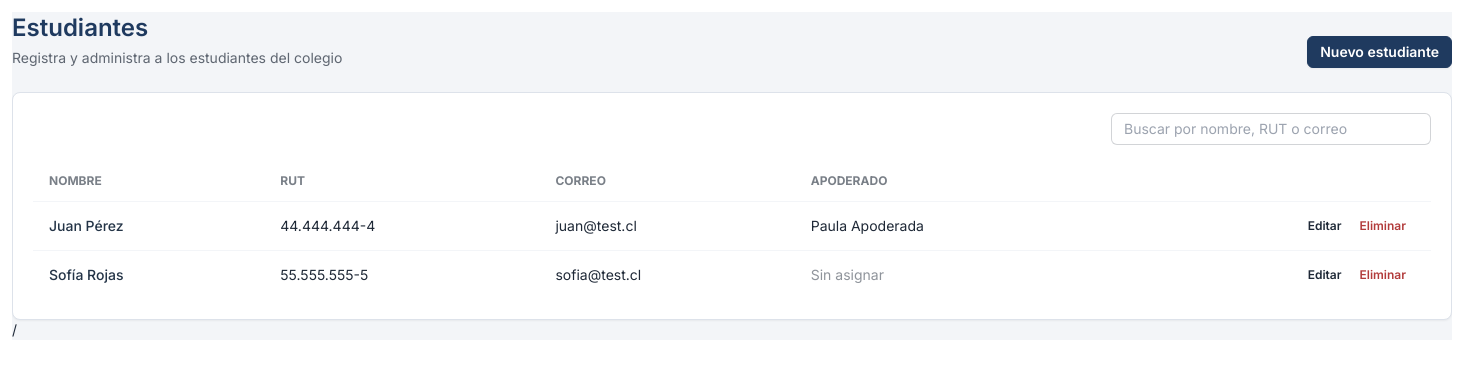
Users › filtra por nombre, RUT o correo
Expected: the text "Juan Pérez" is shown, [33, 202, 264, 250]
Type "sofia" into the field with placeholder "Buscar por nombre, RUT o correo" at {"x": 1271, "y": 129}, box [1111, 113, 1431, 145]
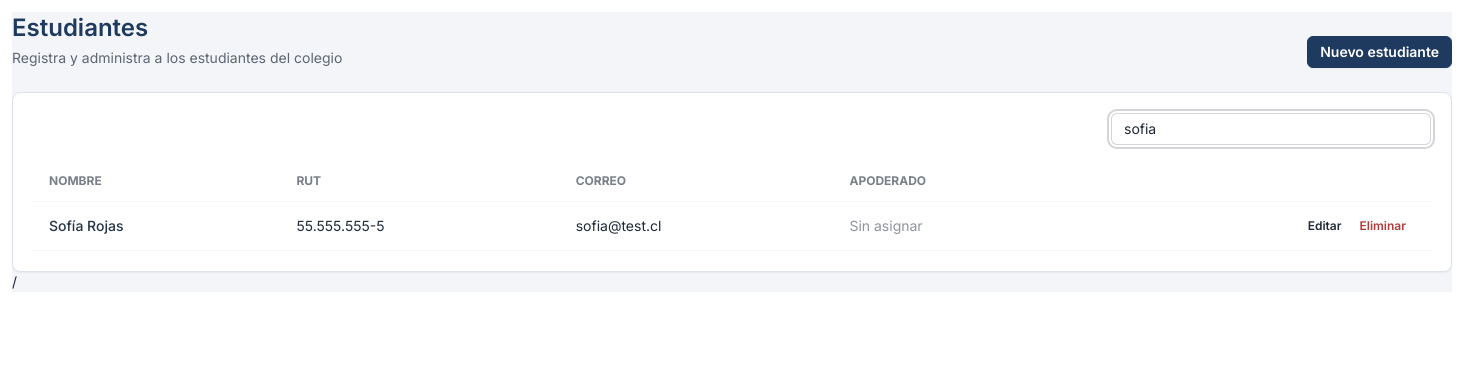
Expected: the text "Sofía Rojas" is shown, [33, 202, 280, 250]
Result: the text "Juan Pérez" is gone
Replace the text in the field with placeholder "Buscar por nombre, RUT o correo" with "zzz" at {"x": 1271, "y": 129}, box [1111, 113, 1431, 145]
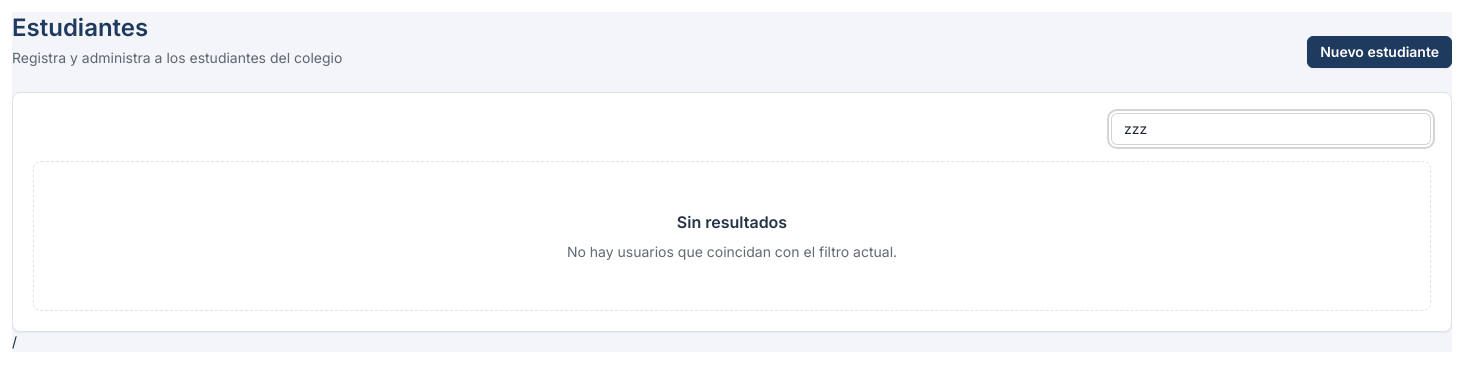
Result: the text "Sin resultados" is shown at [677, 210, 787, 234]
